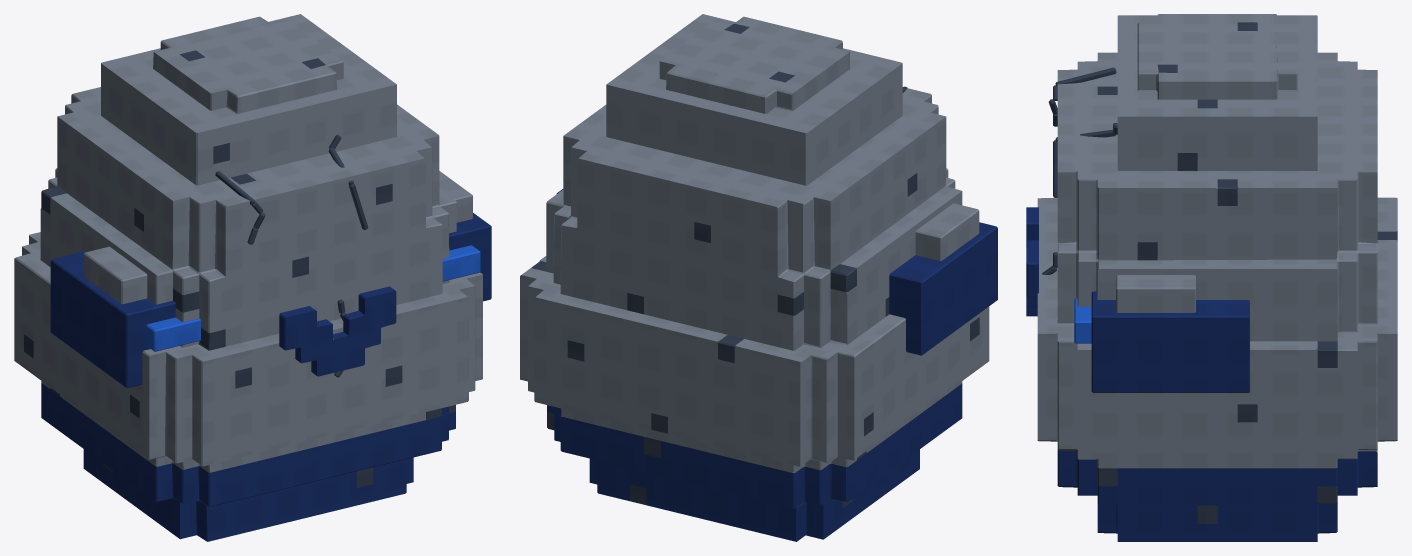
File: Darkseid_Egg.fbx
The picture shows the model from 3 angles, left to right: view 1: azimuth 30°, elevation 25°; view 2: azimuth 150°, elevation 25°; view 3: azimuth 270°, elevation 25°; orthographic projection. The views are drawn at different scales.
Visible parts, largest first — view 1: Darkseid_Egg; view 2: Darkseid_Egg; view 3: Darkseid_Egg.
Part boxes in pixels (bbox=[...]): Darkseid_Egg: bbox=[14, 14, 491, 541]; Darkseid_Egg: bbox=[520, 14, 997, 541]; Darkseid_Egg: bbox=[1026, 14, 1397, 541].
Bounding box in the file's own units: 438 × 480 × 371.
Materials: 4 (4 with a texture image).
